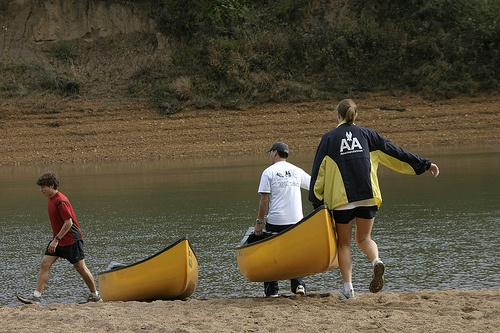head: (333, 96, 362, 131), (35, 170, 62, 201), (267, 142, 291, 164)
person: (308, 96, 439, 297), (240, 141, 323, 290), (24, 170, 98, 305)
